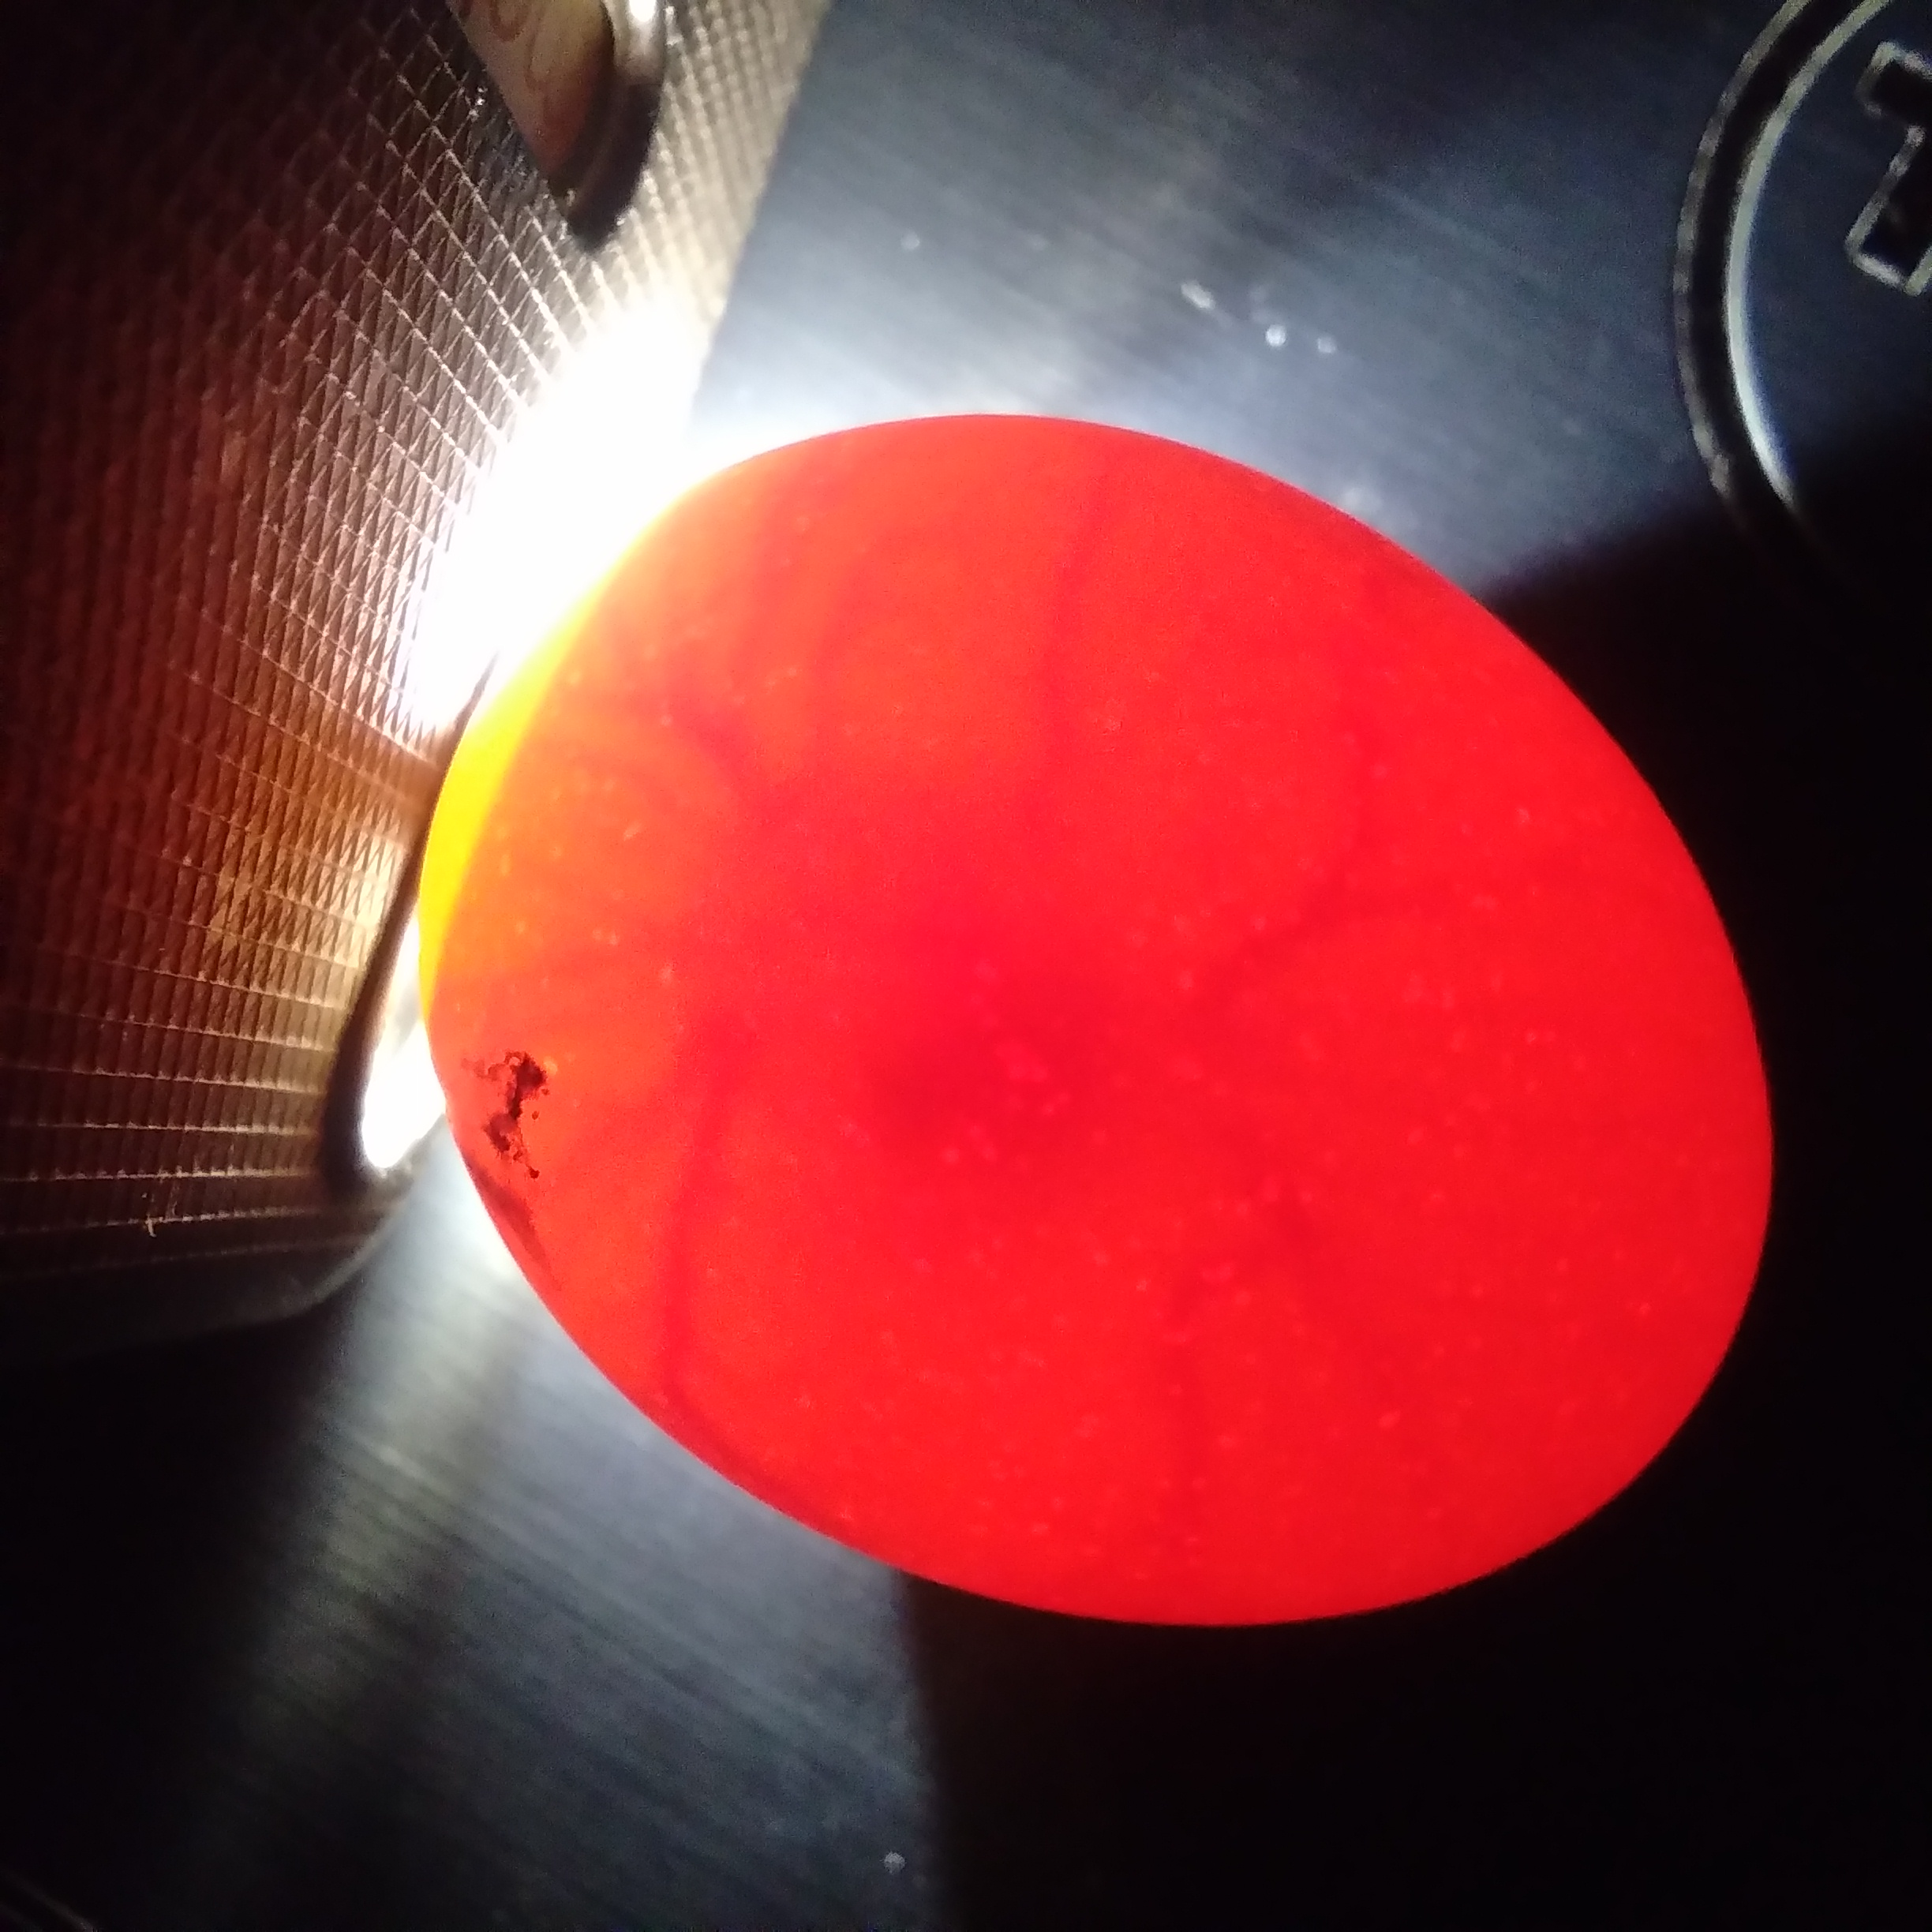bloodcell: (478, 934, 814, 1274), (640, 531, 840, 839)
